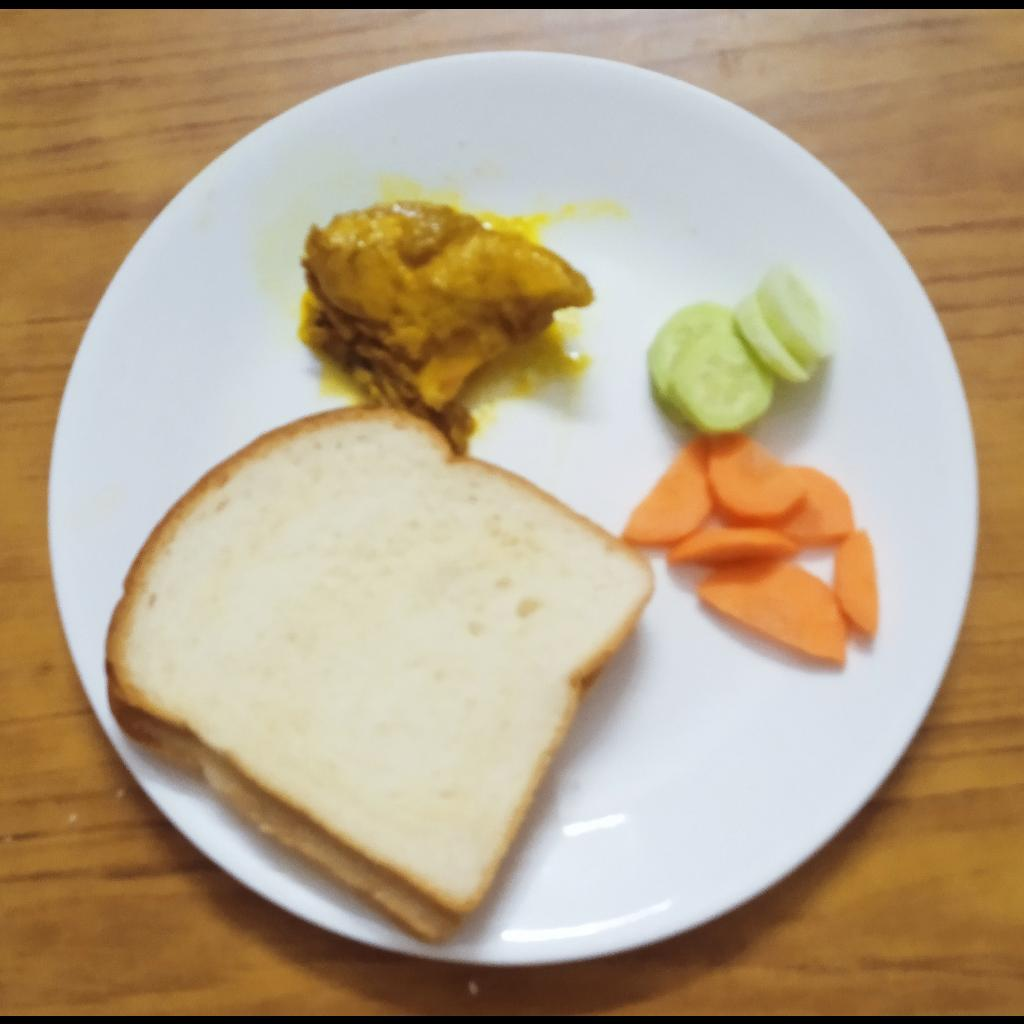bread: (103, 404, 661, 948)
carrot: (624, 430, 878, 661)
chicken: (299, 198, 596, 442)
cucumber: (648, 265, 837, 434)
